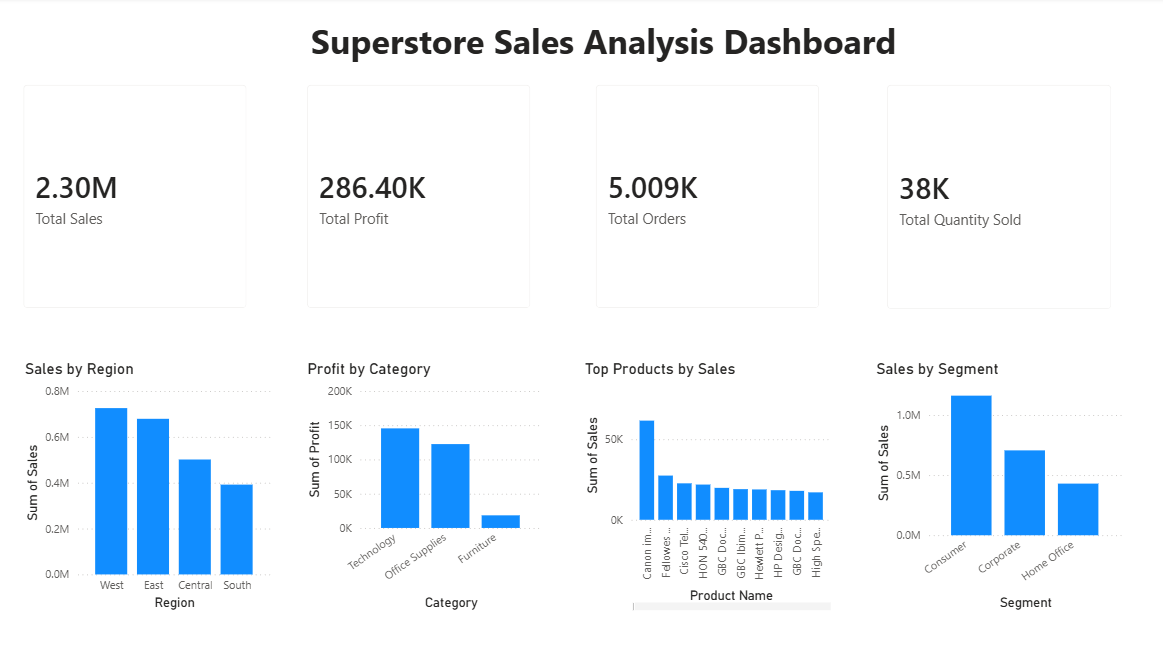

This screenshot's page, from the dashboard's own definition file:
{"tool":"powerbi","page":{"name":"Page 1","canvas":[1280,720],"ordinal":0},"visuals":[{"type":"cardVisual","fields":{"Data":["Sum(Sample - Superstore (Raw data).Sales)"]},"box":[11,79.6,279.9,279.9],"z":0},{"type":"cardVisual","fields":{"Data":["Sum(Sample - Superstore (Raw data).Profit)"]},"box":[322.5,79.6,279.9,279.9],"z":1},{"type":"cardVisual","fields":{"Data":["Count(Sample - Superstore (Raw data).Order ID)"]},"box":[639.5,79.6,279.9,279.9],"z":2},{"type":"clusteredColumnChart","title":"Sales by Region","fields":{"Category":["Sample - Superstore (Raw data).Region"],"Y":["Sum(Sample - Superstore (Raw data).Sales)"]},"box":[24.7,397.9,279.9,279.9],"z":3},{"type":"clusteredColumnChart","title":"Profit by Category","fields":{"Category":["Sample - Superstore (Raw data).Category"],"Y":["Sum(Sample - Superstore (Raw data).Profit)"]},"box":[334.8,397.9,267.6,279.9],"z":4},{"type":"clusteredColumnChart","title":"Top Products by Sales","fields":{"Category":["Sample - Superstore (Raw data).Product Name"],"Y":["Sum(Sample - Superstore (Raw data).Sales)"]},"box":[639.5,397.9,279.9,279.9],"z":5},{"type":"textbox","box":[108.4,0,1064.8,79.6],"z":6},{"type":"clusteredColumnChart","title":"Sales by Segment","fields":{"Category":["Sample - Superstore (Raw data).Segment"],"Y":["Sum(Sample - Superstore (Raw data).Sales)"]},"box":[959.2,397.9,279.9,279.9],"z":7},{"type":"cardVisual","fields":{"Data":["Sum(Sample - Superstore (Raw data).Quantity)"]},"box":[959,80,280,280],"z":8}]}

Visuals, with their boxes in screenshot pixels (x1, y1, x2, y2), scaled from the page's 1280x720 canvas onto the 1163x648 screenshot:
cardVisual - Sum(Sample - Superstore (Raw data).Sales): bbox=(10, 72, 264, 324)
cardVisual - Sum(Sample - Superstore (Raw data).Profit): bbox=(293, 72, 547, 324)
cardVisual - Count(Sample - Superstore (Raw data).Order ID): bbox=(581, 72, 835, 324)
"Sales by Region" clusteredColumnChart: bbox=(22, 358, 277, 610)
"Profit by Category" clusteredColumnChart: bbox=(304, 358, 547, 610)
"Top Products by Sales" clusteredColumnChart: bbox=(581, 358, 835, 610)
textbox: bbox=(98, 0, 1066, 72)
"Sales by Segment" clusteredColumnChart: bbox=(872, 358, 1126, 610)
cardVisual - Sum(Sample - Superstore (Raw data).Quantity): bbox=(871, 72, 1126, 324)
